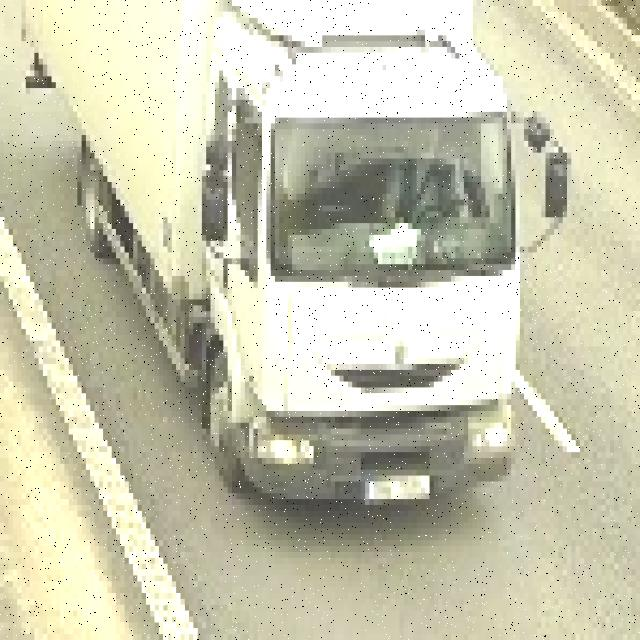truck: (26, 0, 571, 505)
